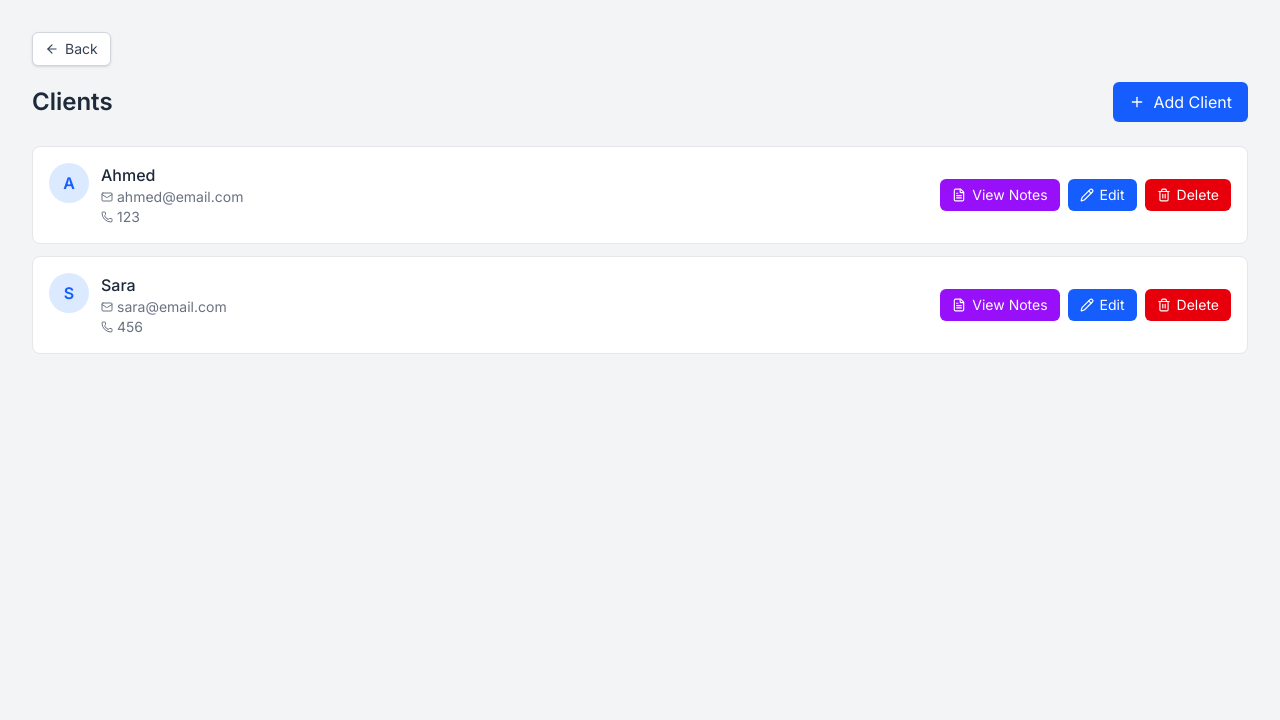
Test: Clients Component › opens delete confirmation on delete button click
This screenshot has width=1280, height=720.
Expected: the text "Ahmed" is shown, [101,165,156,185]
Step 1. Click the button "Delete" in the row of "ahmed@email.com" → (1188, 195), box [1145,179,1231,211]
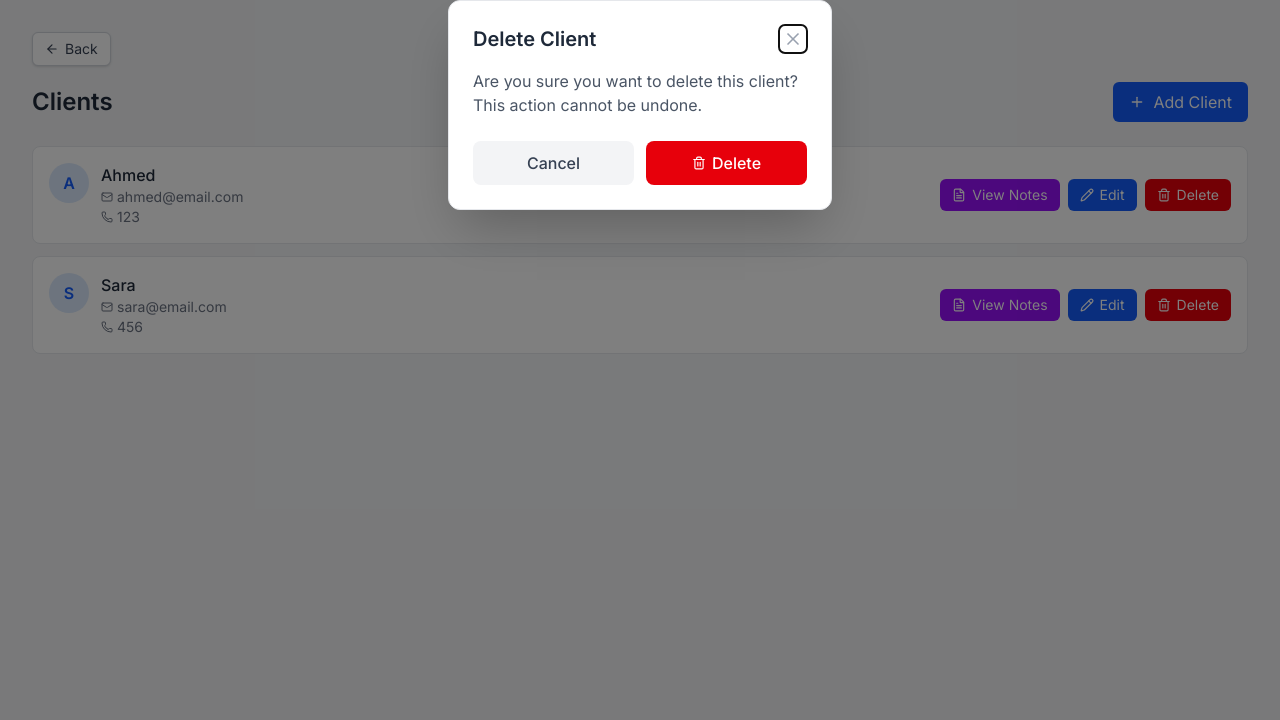
Now the heading "Delete Client" is shown, box [473,25,596,53]
